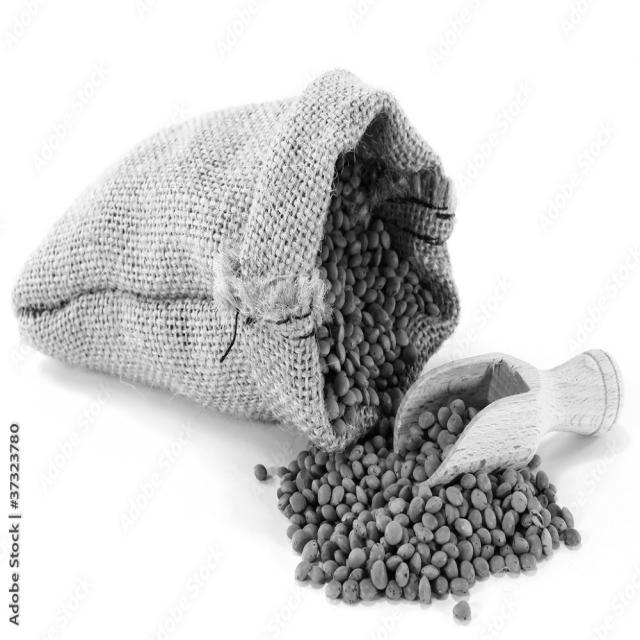sack: (11, 68, 459, 451)
